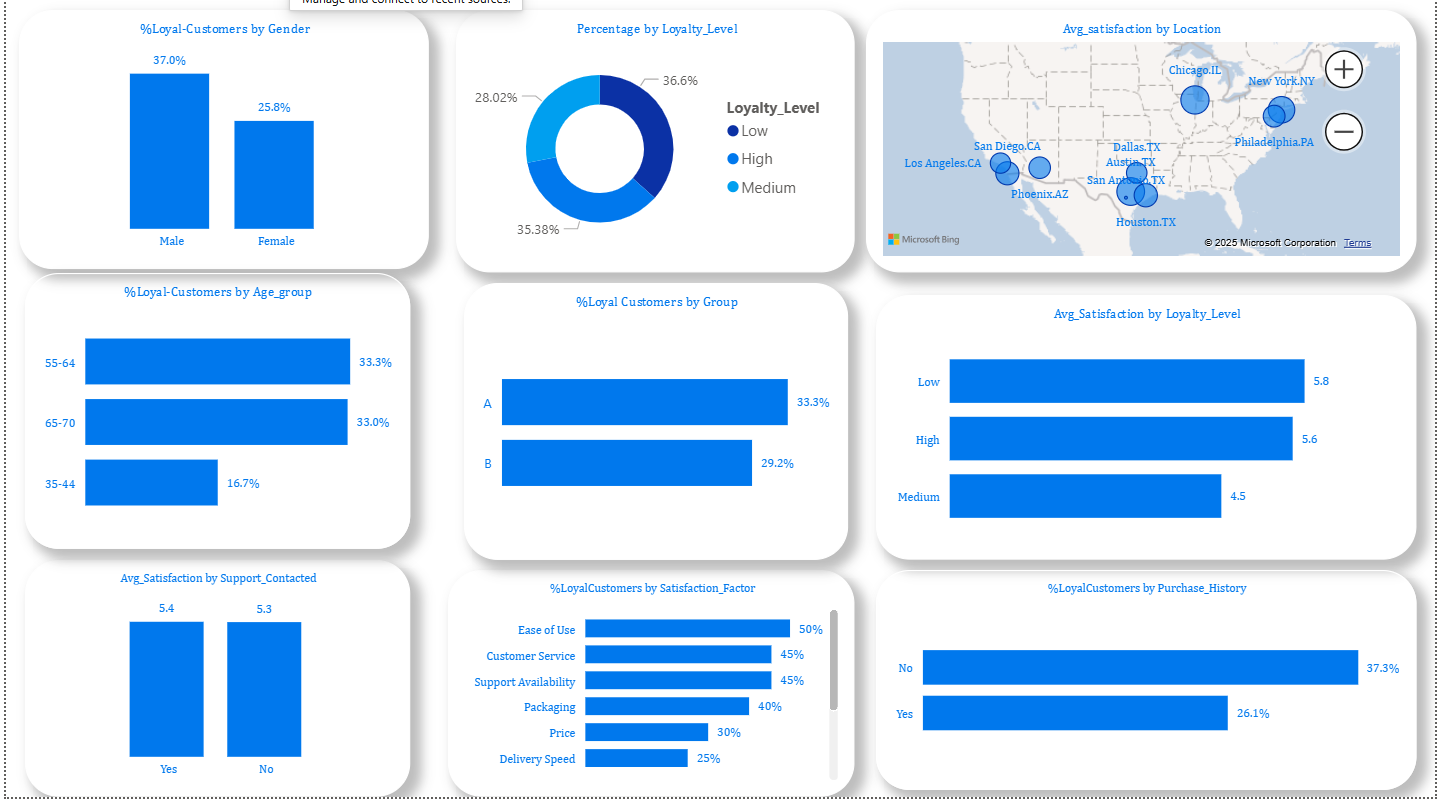

This screenshot's page, from the dashboard's own definition file:
{"tool":"powerbi","page":{"name":"Dashboard","canvas":[1280,720],"ordinal":1},"visuals":[{"type":"donutChart","title":"Percentage by Loyalty_Level","fields":{"Category":["Customer_Satif.Loyalty_Level"],"Y":["MeasureTable.Avg_satifaction"]},"box":[403,15.2,357.3,234.6],"z":0},{"type":"map","title":" Avg_satisfaction by Location","fields":{"Y":["Avg(Customer_Satif.Latitude)"],"X":["Avg(Customer_Satif.Longitude)"],"Category":["Customer_Satif.Location"],"Size":["MeasureTable.Avg_satifaction"]},"box":[770.1,15.2,492.5,234.6],"z":4000},{"type":"barChart","title":"Avg_Satisfaction by Loyalty_Level","fields":{"Category":["Customer_Satif.Loyalty_Level"],"Y":["MeasureTable.Avg_satifaction"]},"box":[779.1,270.4,483.6,237.3],"z":5000},{"type":"columnChart","fields":{"Category":["Customer_Satif.Support_Contacted"],"Y":["MeasureTable.Avg_satifaction"]},"box":[17,507.8,344.8,212.2],"z":6000},{"type":"barChart","fields":{"Category":["Customer_Satif.Satisfaction_Factor"],"Y":["MeasureTable.%LoyalCustomers"]},"box":[395.8,516.7,364.5,203.3],"z":7000},{"type":"clusteredColumnChart","title":"%Loyal-Customers by Gender","fields":{"Category":["Customer_Satif.Gender"],"Y":["MeasureTable.%LoyalCustomers"]},"box":[11.6,15.2,367.2,231.9],"z":7001},{"type":"barChart","title":"%Loyal-Customers by Age_group","fields":{"Category":["Customer_Satif.Age_group"],"Y":["MeasureTable.%LoyalCustomers"]},"box":[17,250.7,344.8,247.2],"z":7002},{"type":"barChart","title":"%Loyal Customers by Group","fields":{"Category":["Customer_Satif.Group"],"Y":["MeasureTable.%LoyalCustomers"]},"box":[410.1,259.7,343.9,248.1],"z":7003},{"type":"barChart","fields":{"Category":["Customer_Satif.Purchase_History"],"Y":["MeasureTable.%LoyalCustomers"]},"box":[779.1,516.7,483.6,197],"z":7004}]}

Visuals, with their boxes in screenshot pixels (x1, y1, x2, y2), scaled from the page's 1280x720 canvas onto the 1441x802 screenshot:
"Percentage by Loyalty_Level" donutChart: locate(454, 17, 856, 278)
" Avg_satisfaction by Location" map: locate(867, 17, 1421, 278)
"Avg_Satisfaction by Loyalty_Level" barChart: locate(877, 301, 1422, 566)
columnChart - Customer_Satif.Support_Contacted x MeasureTable.Avg_satifaction: locate(19, 566, 407, 801)
barChart - Customer_Satif.Satisfaction_Factor x MeasureTable.%LoyalCustomers: locate(446, 576, 856, 801)
"%Loyal-Customers by Gender" clusteredColumnChart: locate(13, 17, 426, 275)
"%Loyal-Customers by Age_group" barChart: locate(19, 279, 407, 555)
"%Loyal Customers by Group" barChart: locate(462, 289, 849, 566)
barChart - Customer_Satif.Purchase_History x MeasureTable.%LoyalCustomers: locate(877, 576, 1422, 795)
